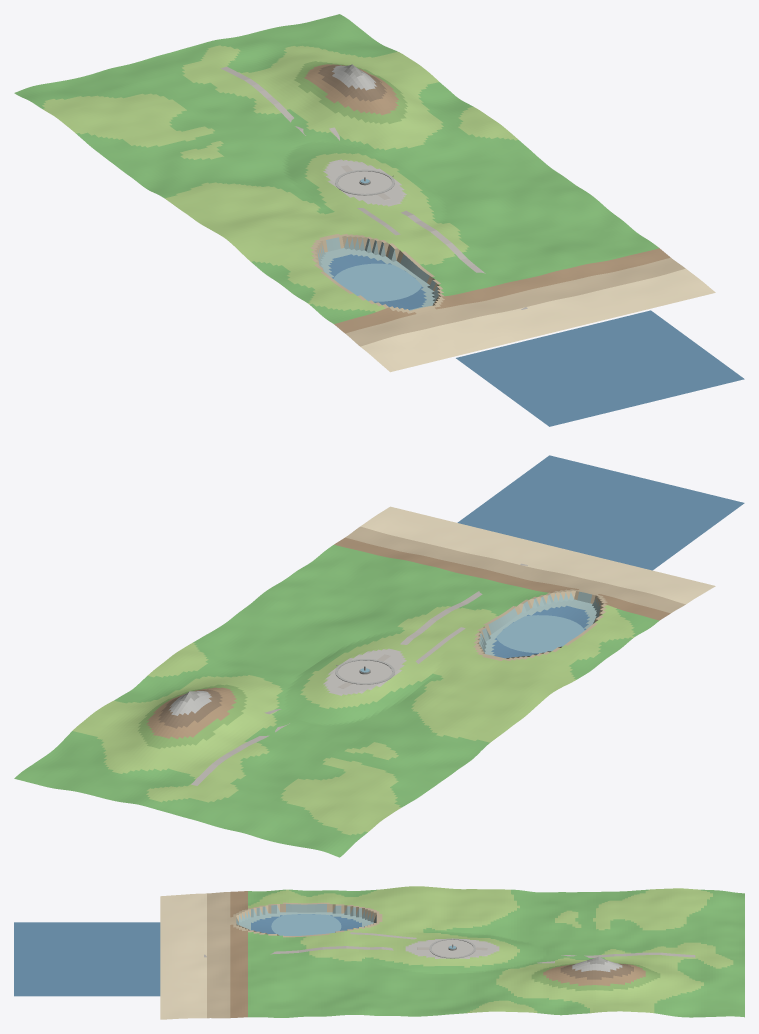
Rendered from Terrain_Vallon_Complete.glb.
3 views of the same model, one above another, from view 1: azimuth 30°, elevation 25°; view 2: azimuth 150°, elevation 25°; view 3: azimuth 270°, elevation 25° (orthographic). The views are drawn at different scales.
Parts seen in each view (by area): view 1: Terrain, Sea, Lake_Surface; view 2: Terrain, Sea, Lake_Surface; view 3: Terrain, Sea, Lake_Surface, Path_South, Path_North.
Part boxes in pixels (<box>): Terrain: <box>14,14,715,372</box>; Sea: <box>456,310,744,426</box>; Lake_Surface: <box>333,263,421,301</box>; Terrain: <box>14,506,715,857</box>; Sea: <box>457,455,744,570</box>; Lake_Surface: <box>496,615,584,653</box>; Terrain: <box>160,886,744,1019</box>; Sea: <box>14,922,160,996</box>; Lake_Surface: <box>271,914,341,935</box>; Path_South: <box>204,946,429,957</box>; Path_North: <box>475,947,695,957</box>.
Bounding box in the file's own units: 200 × 26.44 × 500.
